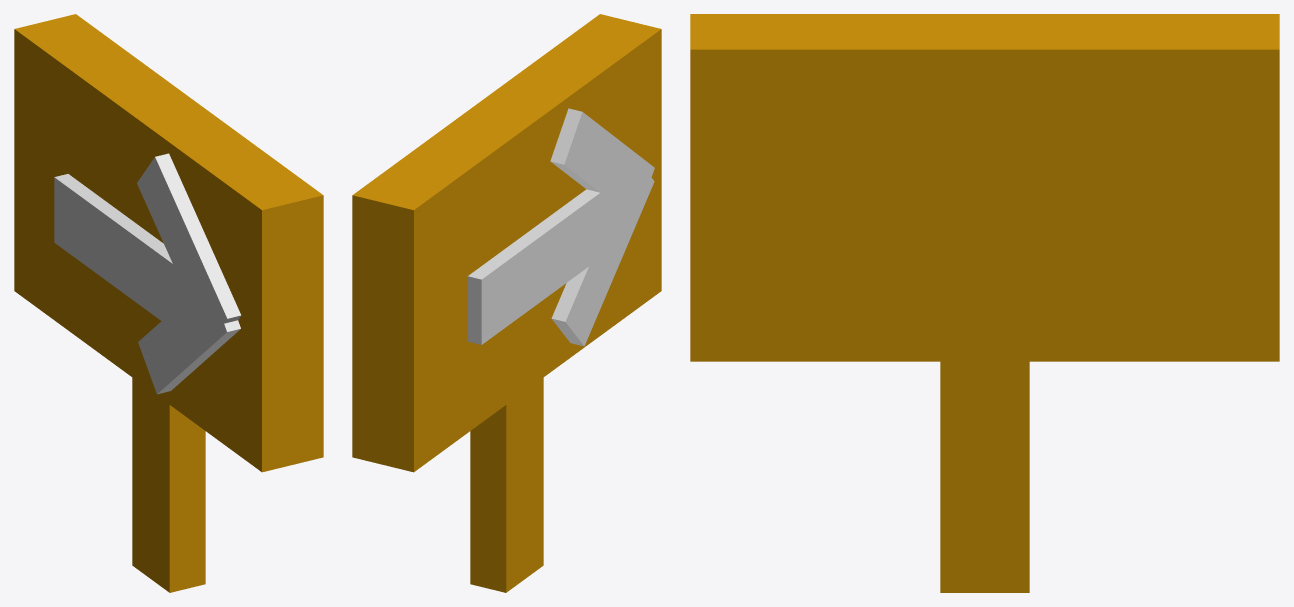
Rendered from указатель.fbx.
The picture shows the model from 3 angles, left to right: view 1: azimuth 30°, elevation 25°; view 2: azimuth 150°, elevation 25°; view 3: azimuth 270°, elevation 25°; orthographic projection. The views are drawn at different scales.
Visible parts, largest first — view 1: Cube.001, Cube, Cube.002, Cube.003, Cube.004; view 2: Cube.001, Cube, Cube.002, Cube.004, Cube.003; view 3: Cube.001, Cube.
Part boxes in pixels (bbox=[...]): Cube.001: bbox=[14, 14, 323, 472]; Cube: bbox=[132, 377, 205, 592]; Cube.002: bbox=[54, 174, 194, 343]; Cube.003: bbox=[137, 153, 241, 342]; Cube.004: bbox=[138, 280, 240, 394]; Cube.001: bbox=[352, 14, 661, 472]; Cube: bbox=[470, 377, 543, 592]; Cube.002: bbox=[467, 177, 621, 344]; Cube.004: bbox=[551, 157, 654, 346]; Cube.003: bbox=[550, 108, 654, 194]; Cube.001: bbox=[690, 14, 1279, 361]; Cube: bbox=[940, 361, 1029, 592].
Size of the model in its own units: 62.26 by 365 by 354.
